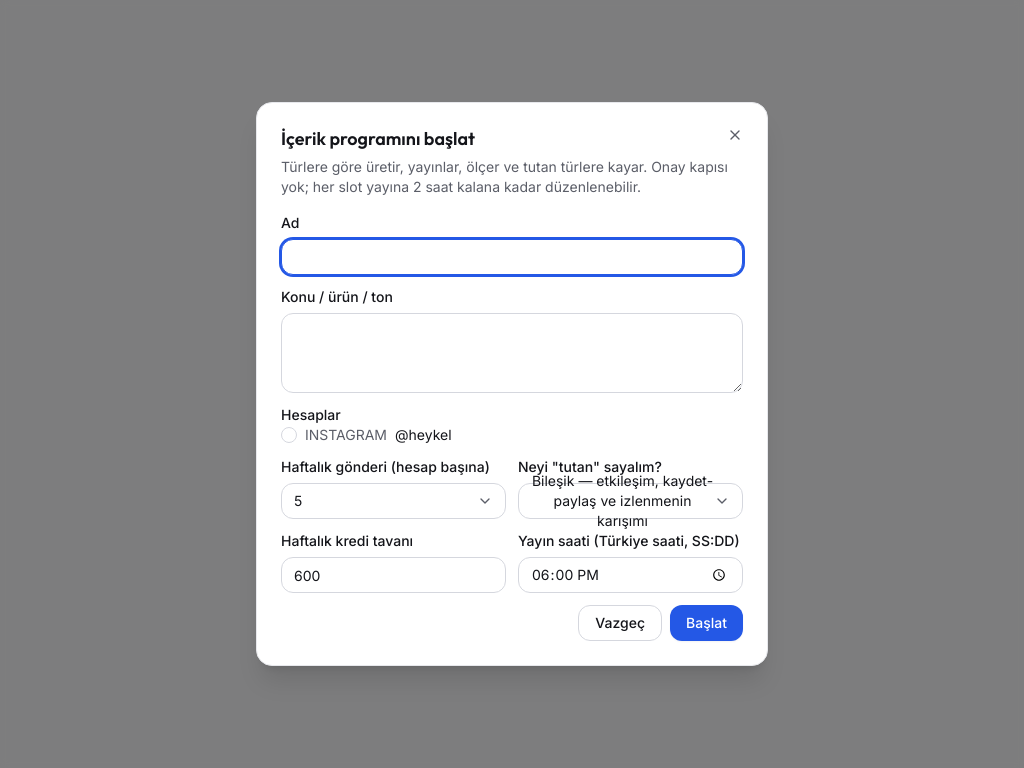
it: ProgrammeSetupDialog — validation is the form's own, not the browser's › names a missing name and brief through the localized alert, not a browser bubble
The image size is (1024, 768).
Click the button "Başlat" at (707, 623), box [670, 605, 743, 641]
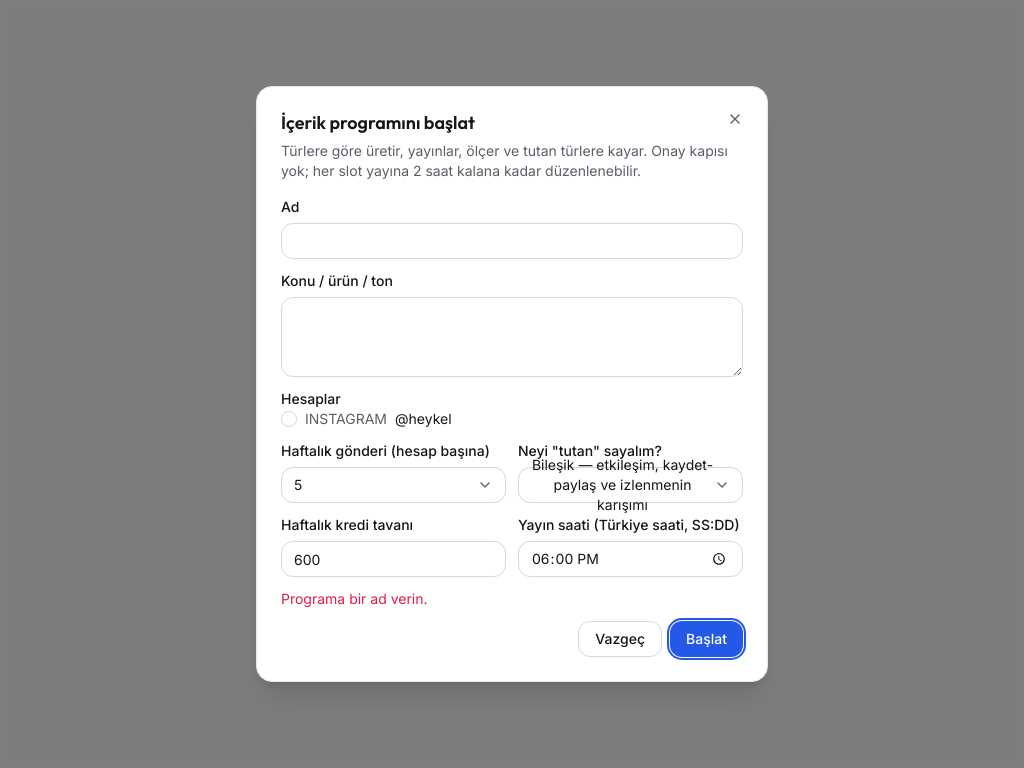
Expected: the message reads "Programa bir ad verin.", [281, 590, 428, 607]
Type "X" into the field labelled "Ad" at (512, 241), box [281, 223, 743, 259]
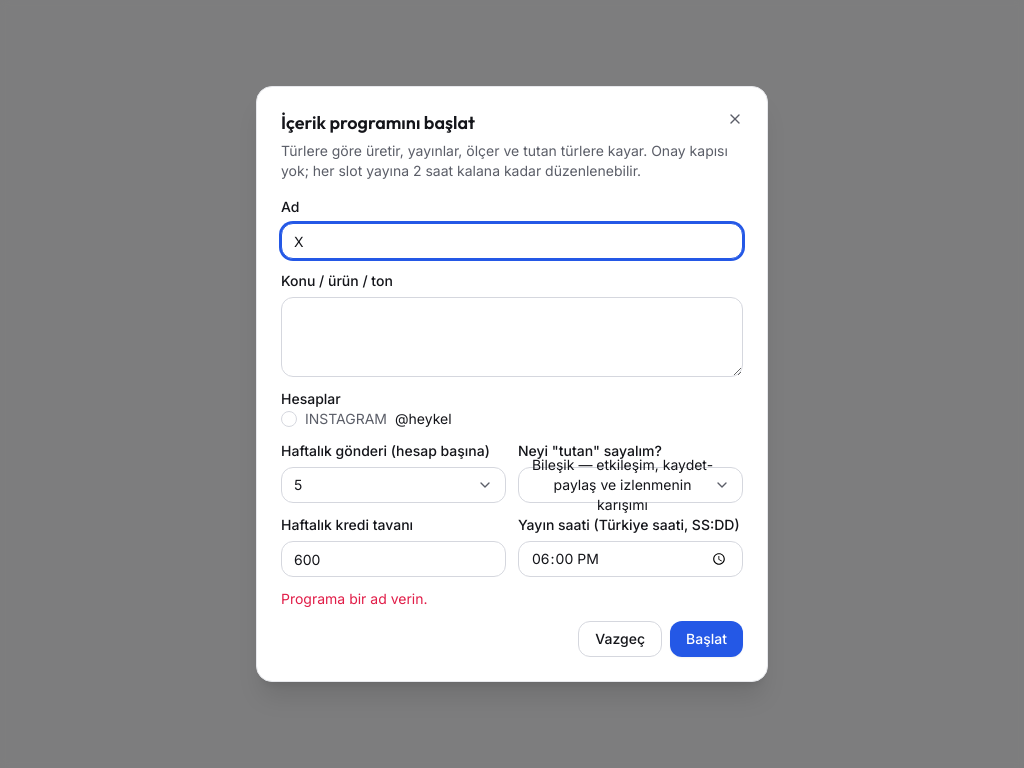
Click the button "Başlat" at (707, 639), box [670, 621, 743, 657]
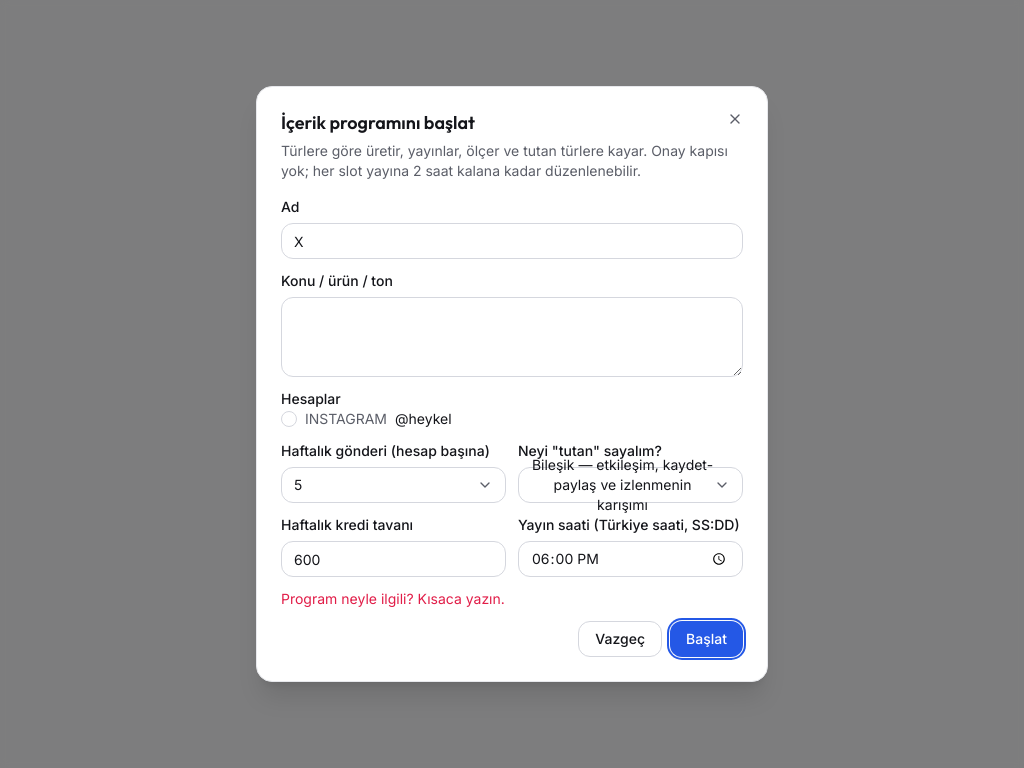
Expected: the message reads "Program neyle ilgili? Kısaca yazın.", [281, 590, 505, 607]
